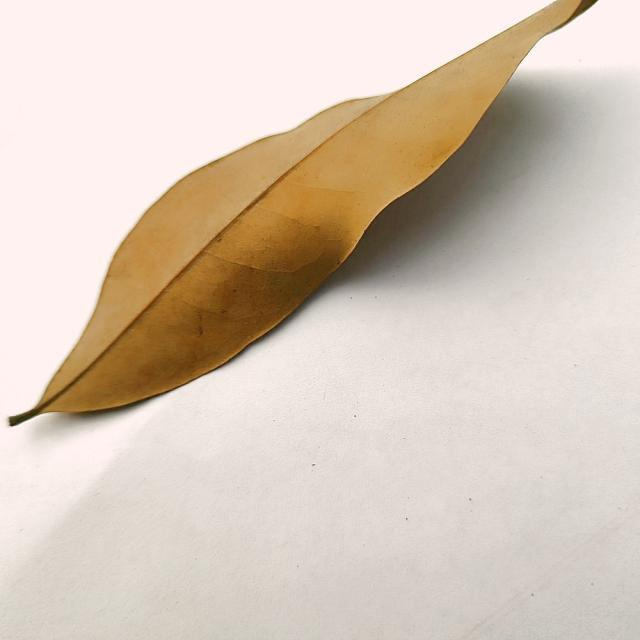Dry_Leaf-Lychee: (9, 0, 601, 425)
